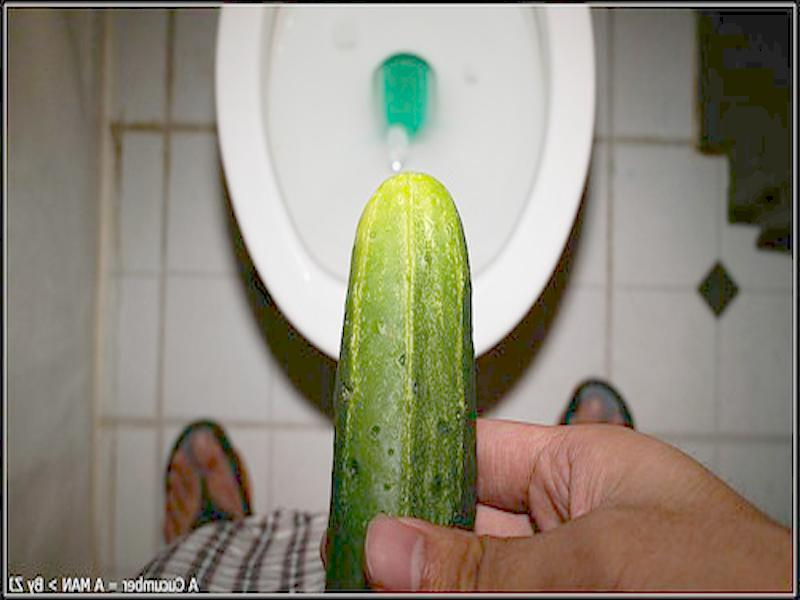Cucumber: (325, 172, 474, 600)
